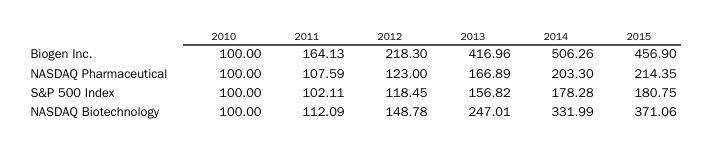table: (29, 29, 675, 118)
table column: (29, 29, 188, 118), (188, 29, 277, 118), (277, 29, 360, 118), (360, 29, 443, 118), (443, 29, 526, 118), (526, 29, 609, 118), (609, 29, 675, 118)
table column header: (29, 29, 675, 43)
table row: (29, 43, 675, 62), (29, 62, 675, 81), (29, 81, 675, 100), (29, 100, 675, 118), (29, 29, 675, 43)
